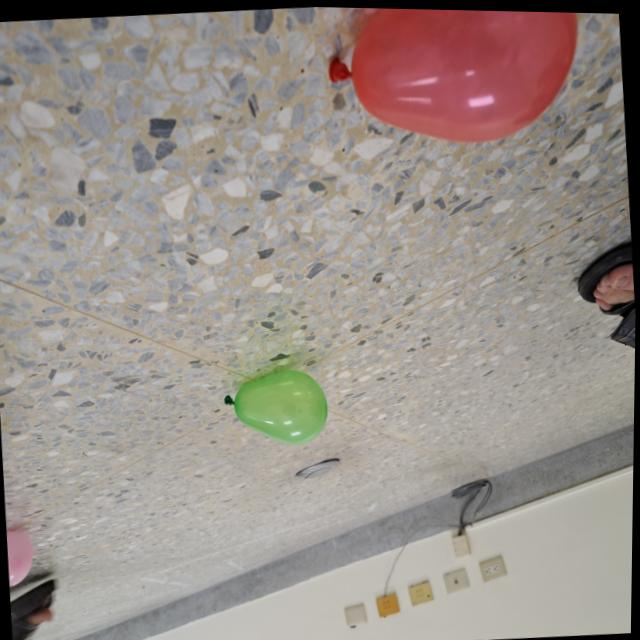other: (222, 363, 332, 447), (7, 526, 40, 589)
red: (320, 6, 589, 155)
